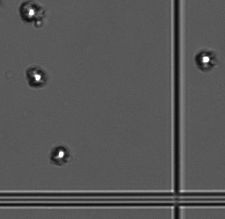Living Cell: (21, 2, 43, 24), (26, 66, 47, 87), (197, 49, 216, 71), (50, 145, 69, 164)
